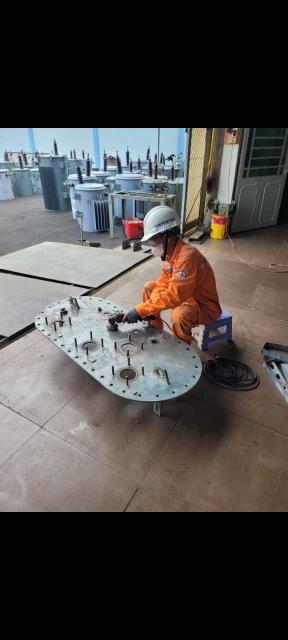gloves: (120, 304, 152, 327)
helmet: (127, 202, 198, 246)
